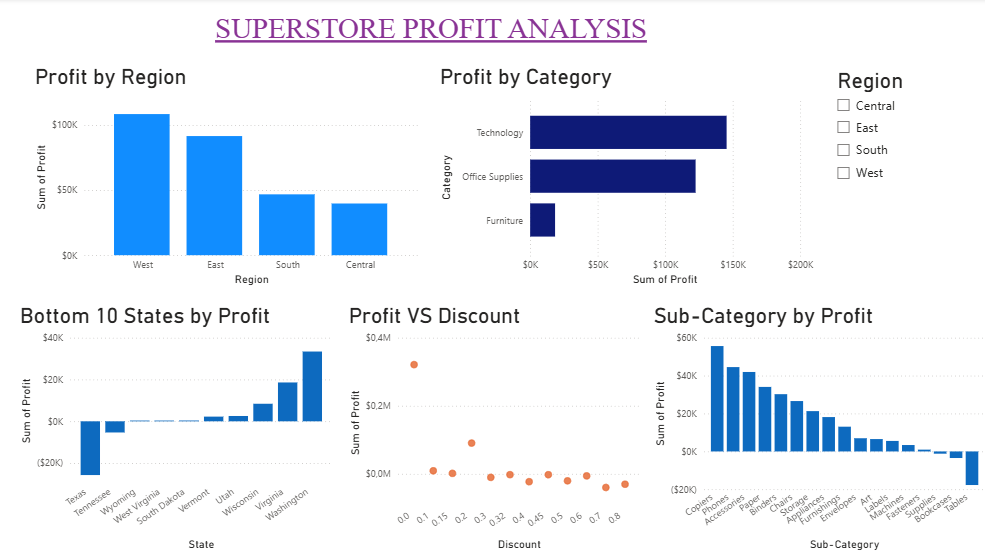

The page's visual inventory and layout, read from the dashboard file:
{"tool":"powerbi","page":{"name":"Profit Analysis","canvas":[1280,720],"ordinal":1},"visuals":[{"type":"columnChart","title":"Profit by Region","fields":{"Category":["superstore_cleaned.Region"],"Y":["Sum(superstore_cleaned.Profit)"]},"box":[39.7,85.1,506.9,291.3],"z":0},{"type":"barChart","title":"Profit by Category","fields":{"Category":["superstore_cleaned.Category"],"Y":["Sum(superstore_cleaned.Profit)"]},"box":[565.5,85.1,493.6,291.3],"z":1000},{"type":"scatterChart","title":"Profit VS Discount","fields":{"X":["superstore_cleaned.Discount"],"Y":["Sum(superstore_cleaned.Profit)"]},"box":[446.3,395.3,387.7,325.3],"z":2000},{"type":"columnChart","title":"Sub-Category by Profit ","fields":{"Category":["superstore_cleaned.Sub-Category"],"Y":["Sum(superstore_cleaned.Profit)"]},"box":[841.6,395.3,438.8,325.3],"z":3000},{"type":"slicer","fields":{"Values":["superstore_cleaned.Region"]},"box":[1072.3,85.1,181.6,204.3],"z":4000},{"type":"textbox","box":[274.2,13.2,582.5,71.9],"z":5000},{"type":"columnChart","title":"Bottom 10 States by Profit","fields":{"Y":["Sum(superstore_cleaned.Profit)"],"Category":["superstore_cleaned.State"]},"box":[21,395,414.4,325.4],"z":5001}]}

Visuals, with their boxes in screenshot pixels (x1, y1, x2, y2), scaled from the page's 1280x720 canvas onto the 985x552 screenshot:
"Profit by Region" columnChart: (31,65,421,289)
"Profit by Category" barChart: (435,65,815,289)
"Profit VS Discount" scatterChart: (343,303,642,551)
"Sub-Category by Profit " columnChart: (648,303,984,551)
slicer - superstore_cleaned.Region: (825,65,965,222)
textbox: (211,10,659,65)
"Bottom 10 States by Profit" columnChart: (16,303,335,551)
